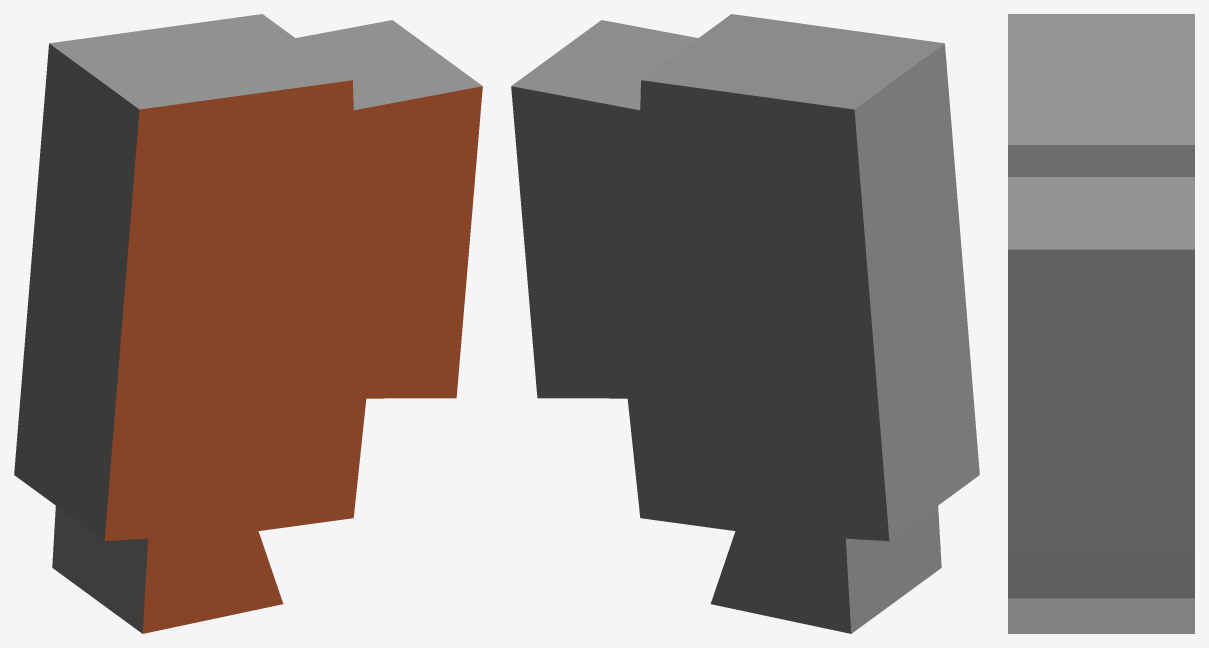
File: construction_5837_assumed_A_Casa_h6m.obj
3 views of the same model, side by side, from view 1: azimuth 30°, elevation 25°; view 2: azimuth 150°, elevation 25°; view 3: azimuth 270°, elevation 25° (orthographic). The views are drawn at different scales.
Parts seen in each view (by area): view 1: construction_5837_assumed_A_Casa; view 2: construction_5837_assumed_A_Casa; view 3: construction_5837_assumed_A_Casa.
Part boxes in pixels (x1,y1,x2,y2): construction_5837_assumed_A_Casa: (14, 14, 482, 633); construction_5837_assumed_A_Casa: (511, 14, 979, 633); construction_5837_assumed_A_Casa: (1008, 14, 1194, 633).
Bounding box in the file's own units: 14.49 × 19.39 × 6.
